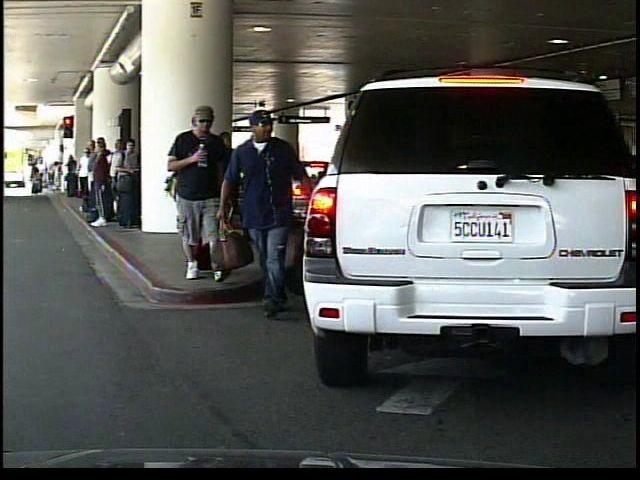person: (224, 104, 308, 323), (170, 106, 232, 284), (211, 136, 252, 247)
